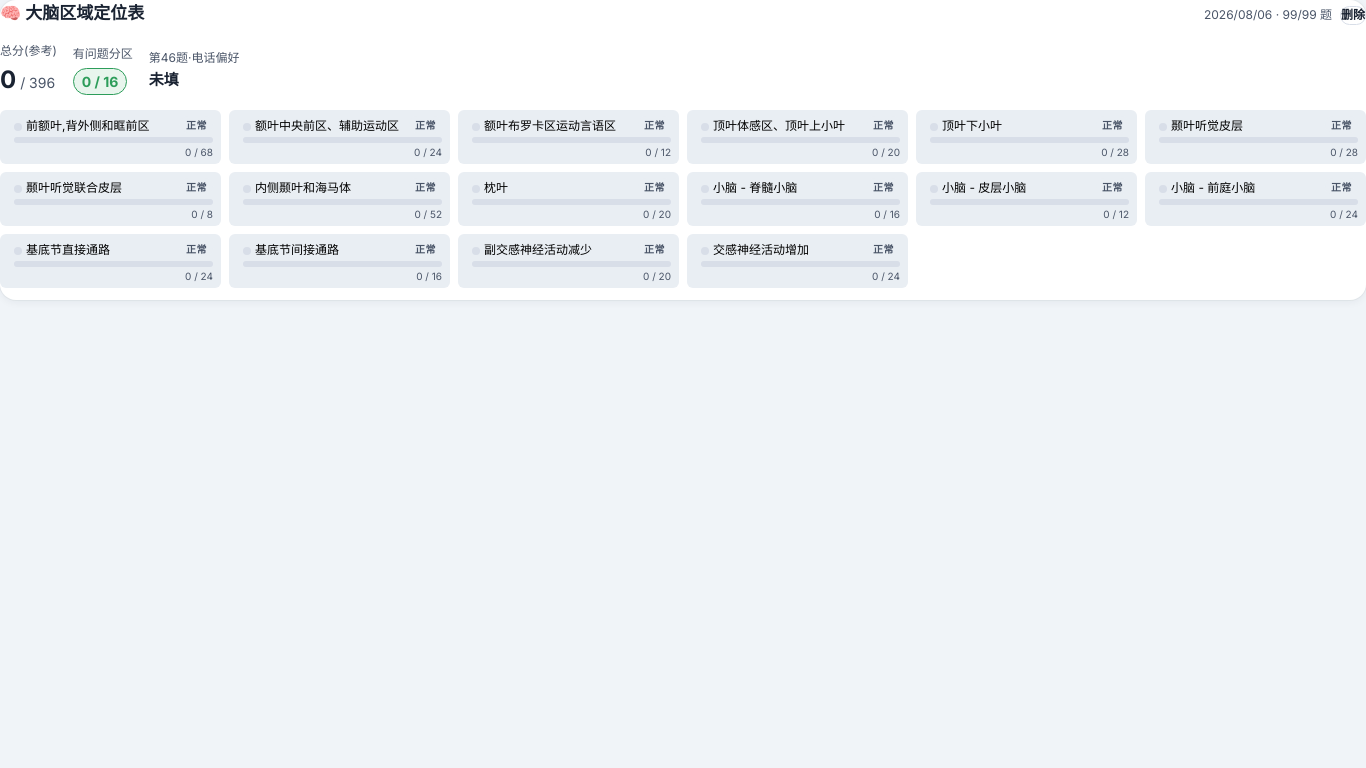
Test case: BrainRegionResult — 分区条点击交互 › 点击某分区按钮 → 弹层出现,显示该分区的题目
# 点击 prefrontal
Click the button with test id "brain-region-bar-prefrontal" at [110, 137], box [0,110,221,164]
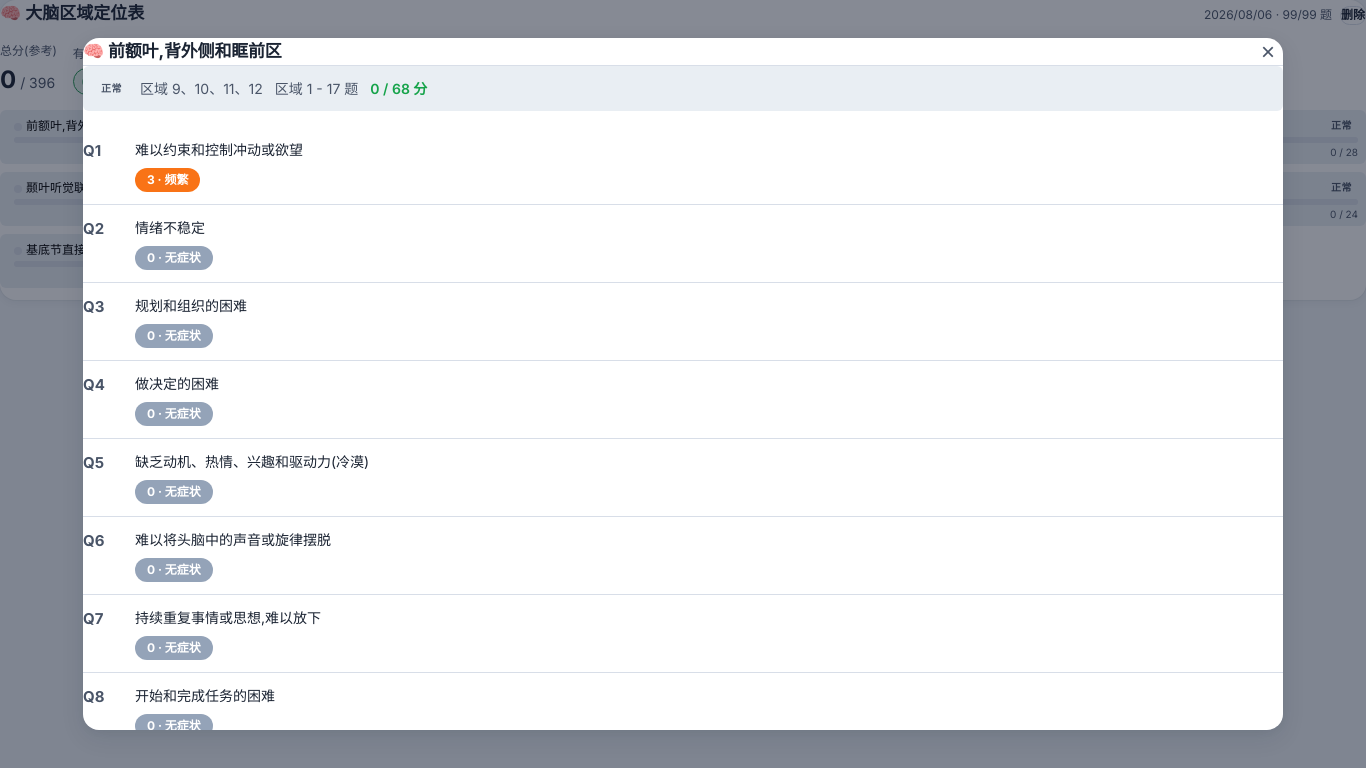
Check: the dialog is shown
Check: the heading "🧠 前额叶,背外侧和眶前区" is shown, box [83,38,282,65]
Check: the text with test id "brain-region-detail-score-1" shows "3", box [147,172,155,187]
